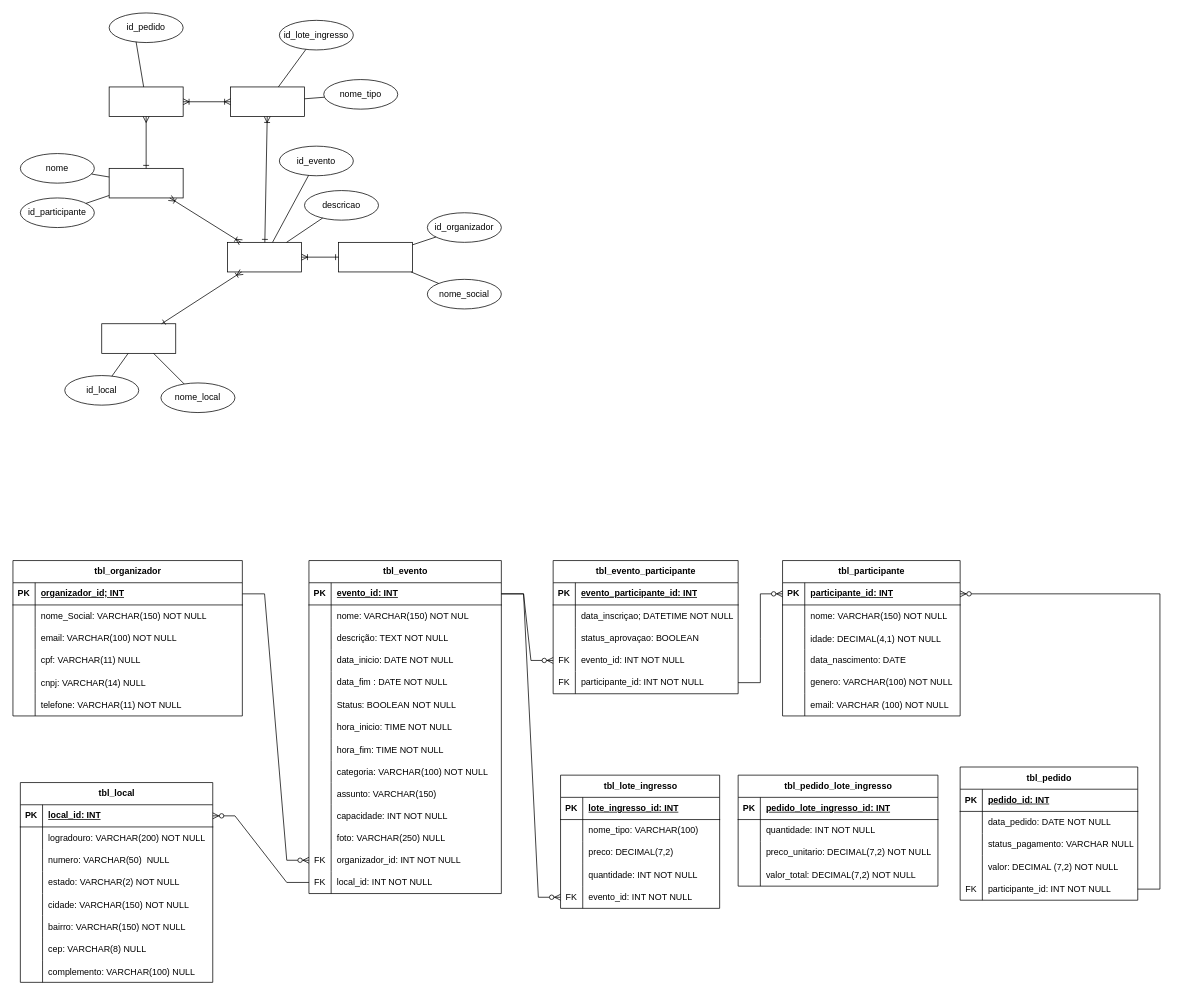
The diagram is 1179 pixels wide and 995 high, and some of its shapes have lost their labels. Each missing label, with the centre of its shape:
"Evento" belongs at pixel 264 257.
"Local" belongs at pixel 138 338.
"Lote_ingresso" belongs at pixel 267 101.
"organizador" belongs at pixel 375 257.
"Participante" belongs at pixel 145 183.
"pedido" belongs at pixel 145 101.
